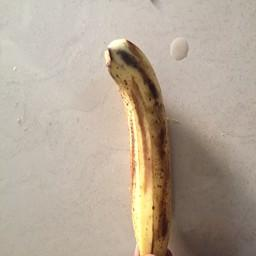Banana Ripe: (87, 25, 189, 256)
